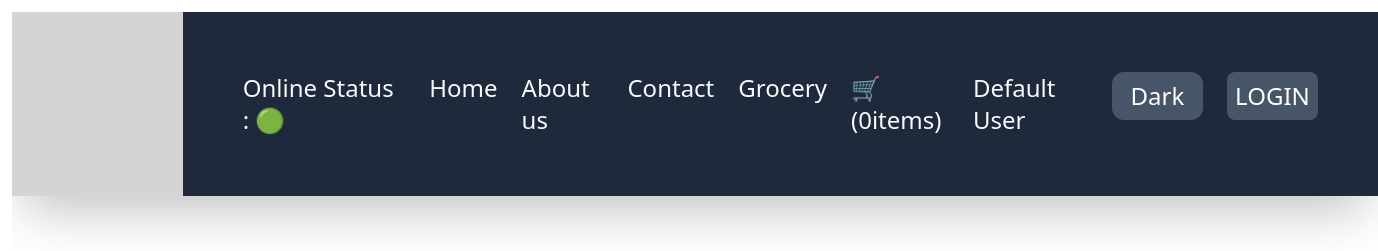
Test: loading header component › should load logout after click login button
Step 1. Click the button "LOGIN" → click(1272, 96), box x1=1227 y1=72 x2=1318 y2=120
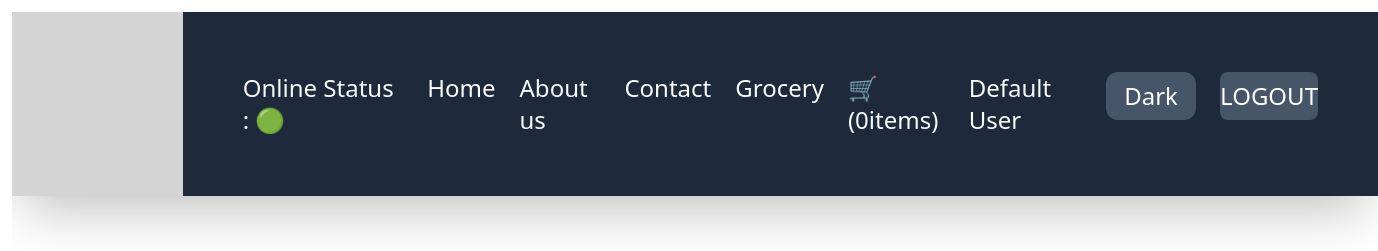
Now the button "LOGOUT" is shown, box x1=1220 y1=72 x2=1318 y2=120
